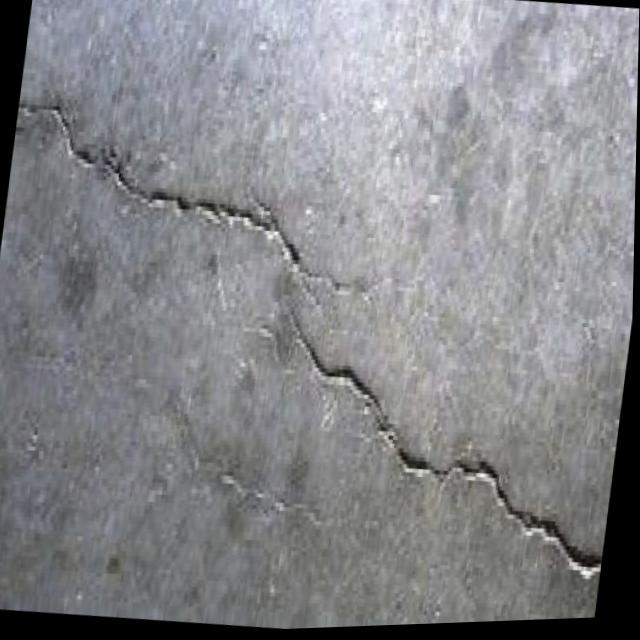Crack: (43, 103, 312, 262), (281, 312, 469, 480), (456, 451, 614, 588)
